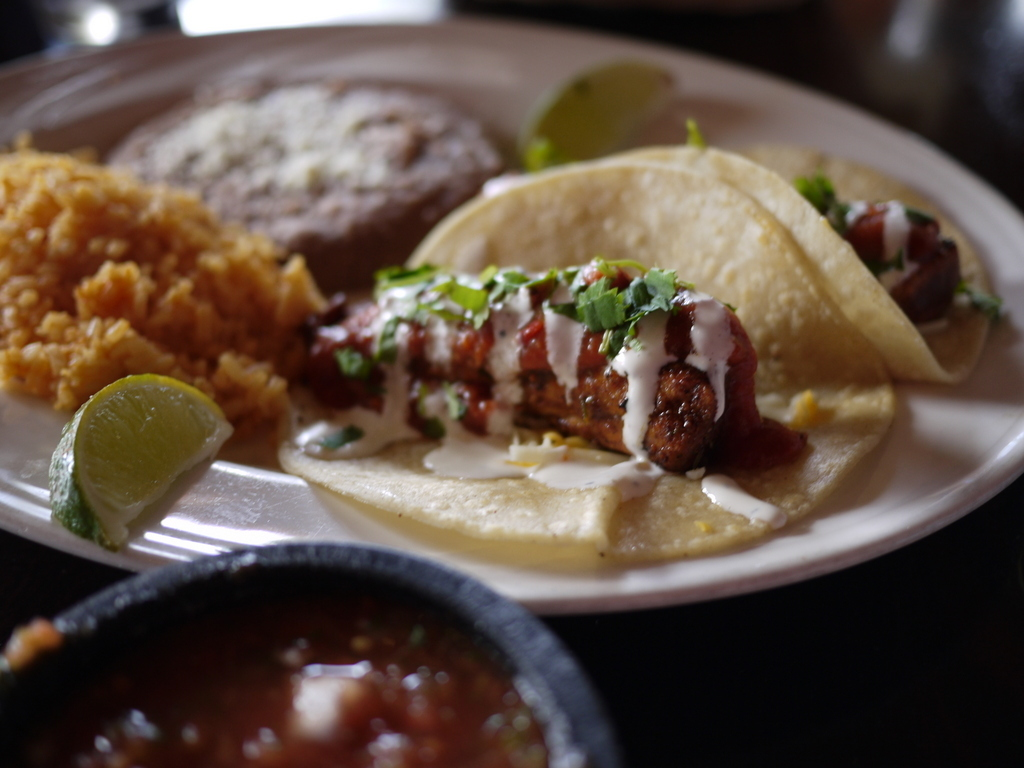taco: (230, 122, 940, 566)
